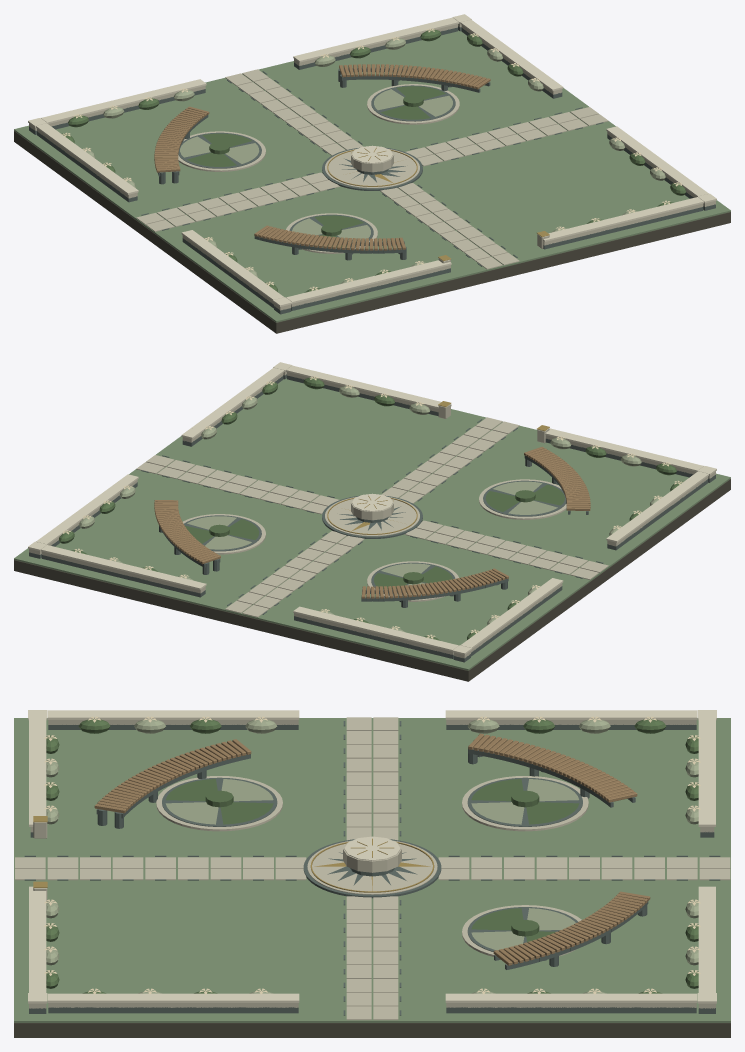
The model's file is open_ground-scene.glb.
3 views of the same model, one above another, from view 1: azimuth 30°, elevation 25°; view 2: azimuth 150°, elevation 25°; view 3: azimuth 270°, elevation 25° (orthographic). The views are drawn at different scales.
Parts seen in each view (by area): view 1: runtime_Ground / garden green, runtime_Ground / ivory limestone, runtime_Ground / cut edges, runtime_Ground / slate inlay, runtime_Ground / foundation earth, runtime_Ground / weathered oak, runtime_Ground / clipped herbs, runtime_Ground / silver sage, runtime_Ground / cream blossom, runtime_Ground / compass bronze; view 2: runtime_Ground / garden green, runtime_Ground / ivory limestone, runtime_Ground / cut edges, runtime_Ground / foundation earth, runtime_Ground / slate inlay, runtime_Ground / weathered oak, runtime_Ground / clipped herbs, runtime_Ground / silver sage, runtime_Ground / cream blossom, runtime_Ground / compass bronze; view 3: runtime_Ground / garden green, runtime_Ground / ivory limestone, runtime_Ground / cut edges, runtime_Ground / slate inlay, runtime_Ground / foundation earth, runtime_Ground / weathered oak, runtime_Ground / clipped herbs, runtime_Ground / silver sage, runtime_Ground / cream blossom, runtime_Ground / compass bronze.
Part boxes in pixels (x1,y1,x2,y2): runtime_Ground / garden green: (14, 30, 730, 322); runtime_Ground / ivory limestone: (29, 24, 715, 310); runtime_Ground / cut edges: (28, 14, 716, 306); runtime_Ground / slate inlay: (29, 26, 715, 314); runtime_Ground / foundation earth: (14, 131, 730, 333); runtime_Ground / weathered oak: (154, 64, 490, 250); runtime_Ground / clipped herbs: (62, 29, 685, 292); runtime_Ground / silver sage: (82, 38, 665, 283); runtime_Ground / cream blossom: (62, 28, 681, 290); runtime_Ground / compass bronze: (327, 147, 549, 261); runtime_Ground / garden green: (14, 378, 730, 670); runtime_Ground / ivory limestone: (29, 372, 715, 658); runtime_Ground / cut edges: (28, 362, 716, 654); runtime_Ground / foundation earth: (14, 479, 730, 681); runtime_Ground / slate inlay: (29, 374, 715, 662); runtime_Ground / weathered oak: (154, 446, 590, 598); runtime_Ground / clipped herbs: (59, 377, 682, 640); runtime_Ground / silver sage: (79, 386, 662, 631); runtime_Ground / cream blossom: (63, 376, 682, 638); runtime_Ground / compass bronze: (327, 401, 549, 534); runtime_Ground / garden green: (14, 718, 730, 1022); runtime_Ground / ivory limestone: (15, 717, 730, 1020); runtime_Ground / cut edges: (28, 710, 716, 1003); runtime_Ground / slate inlay: (24, 721, 720, 1015); runtime_Ground / foundation earth: (14, 1023, 730, 1037); runtime_Ground / weathered oak: (94, 733, 650, 965); runtime_Ground / clipped herbs: (46, 718, 698, 993); runtime_Ground / silver sage: (46, 718, 698, 993); runtime_Ground / cream blossom: (44, 716, 700, 994); runtime_Ground / compass bronze: (33, 816, 434, 892).
Bounding box in the file's own units: 25.8 × 1.53 × 25.8.
